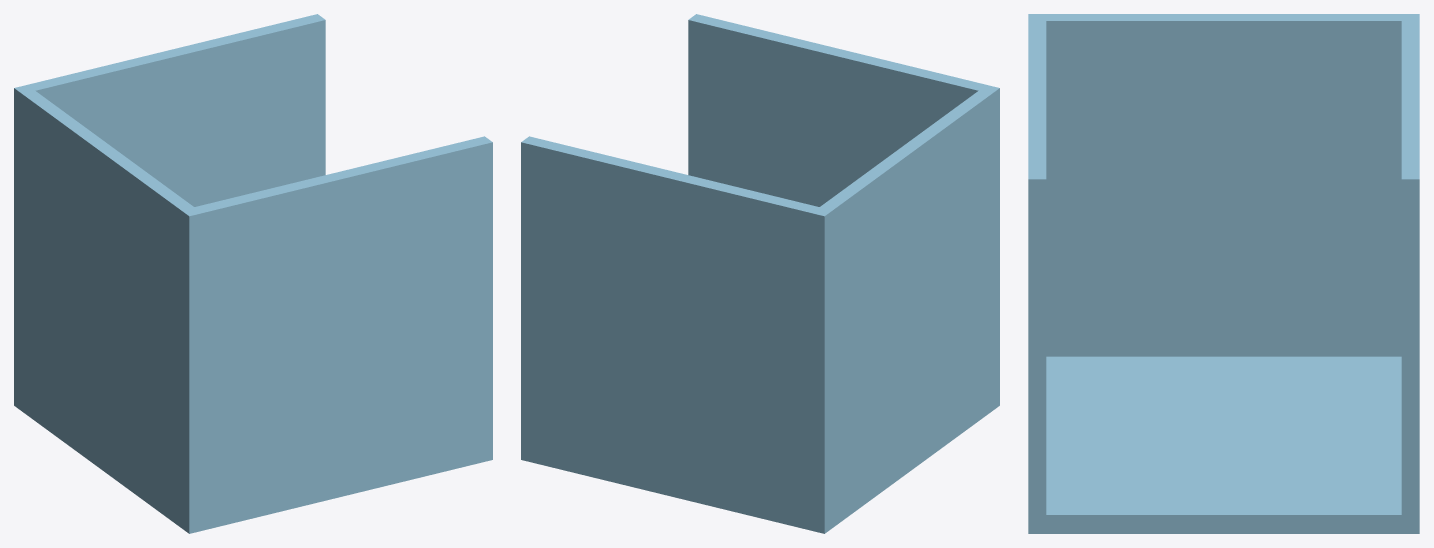
3 views of the same model, side by side, from view 1: azimuth 30°, elevation 25°; view 2: azimuth 150°, elevation 25°; view 3: azimuth 270°, elevation 25° (orthographic). The views are drawn at different scales.
Visible parts, largest first — view 1: Cube; view 2: Cube; view 3: Cube.
Boxes of the visible parts, x1=… form: Cube: x1=14, y1=14, x2=492, y2=533; Cube: x1=521, y1=14, x2=999, y2=533; Cube: x1=1028, y1=14, x2=1419, y2=533.
Bounding box in the file's own units: 2000 × 2000 × 2000.
